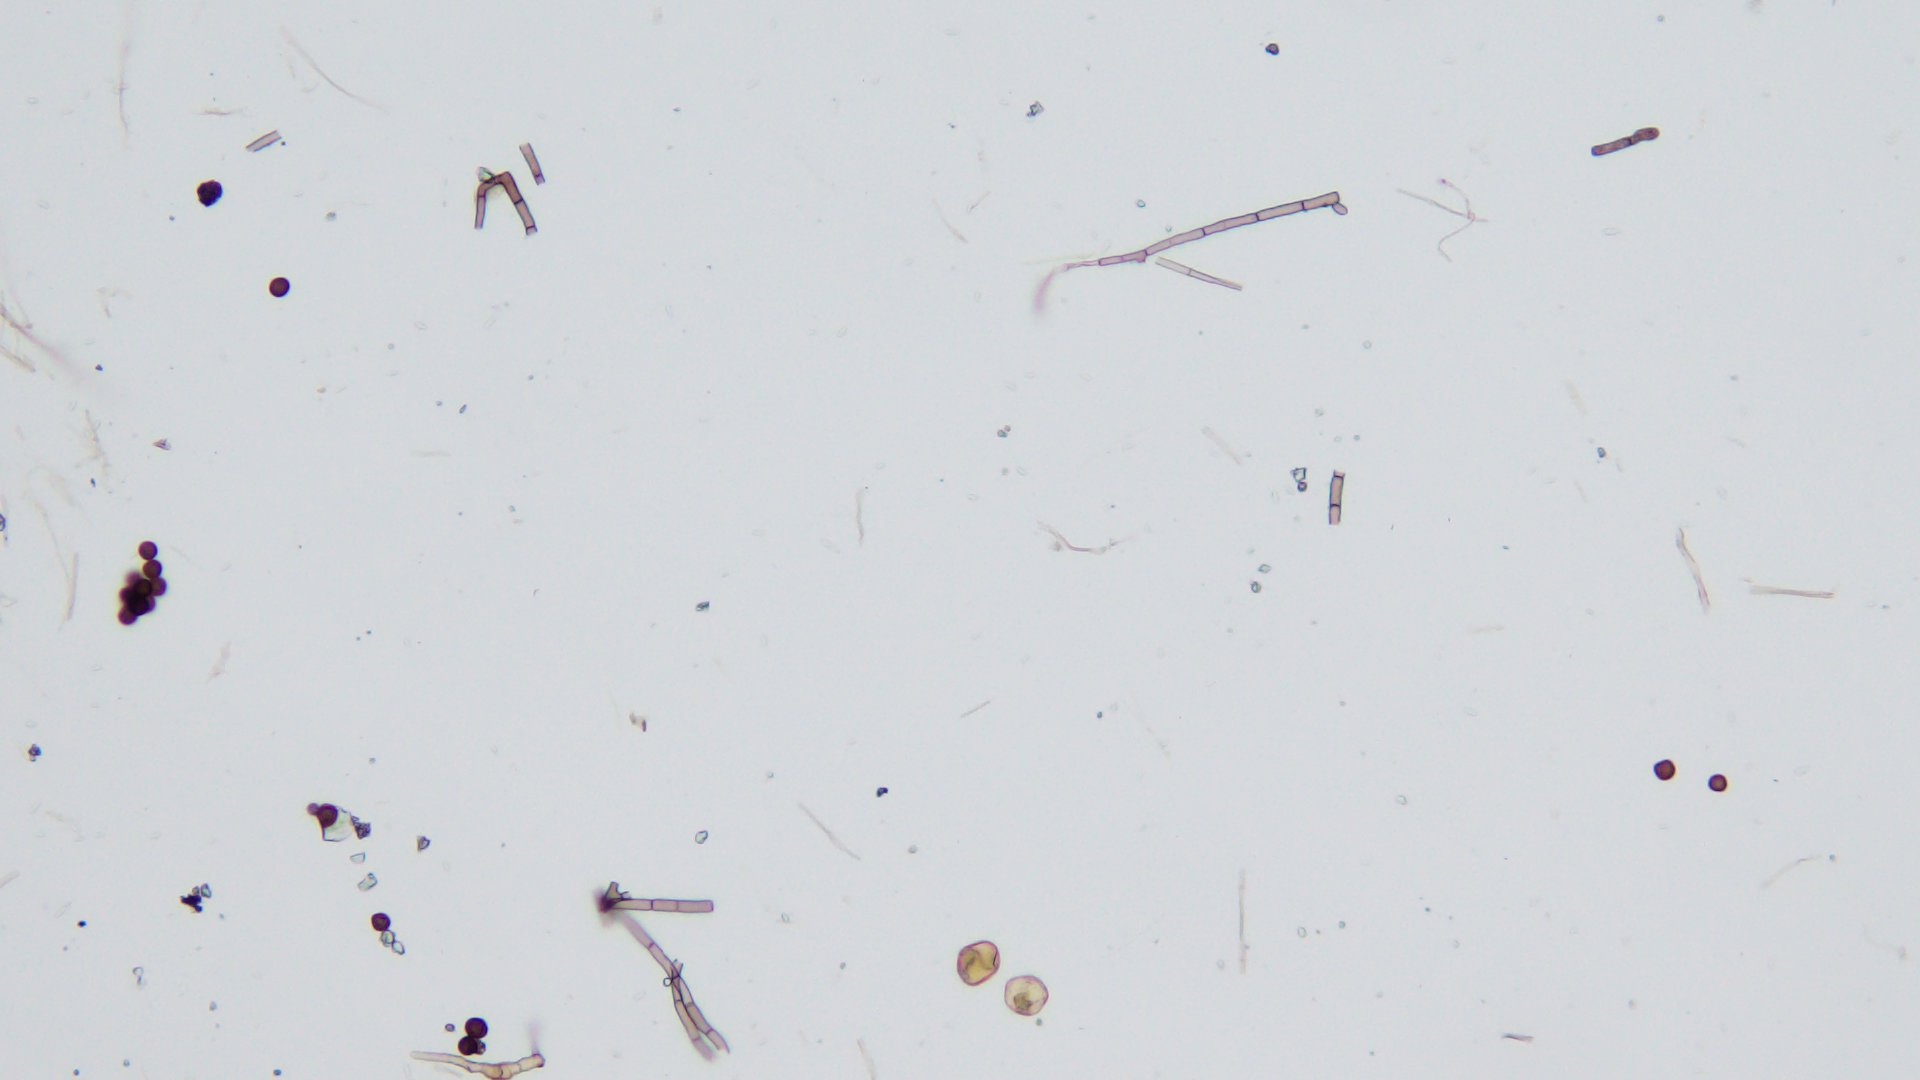shs_spore: (315, 800, 338, 828), (455, 1035, 481, 1058), (368, 911, 394, 932), (1651, 760, 1677, 781), (463, 1018, 491, 1038), (268, 277, 291, 299), (140, 558, 164, 576), (138, 539, 158, 559), (1706, 774, 1727, 793), (148, 576, 167, 595)
xb_spore: (1000, 973, 1050, 1015), (957, 940, 1002, 986)
